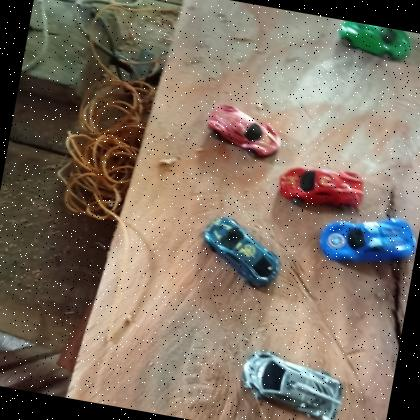Car: (234, 345, 350, 420), (314, 203, 420, 278), (195, 212, 288, 290), (273, 158, 370, 218), (202, 99, 288, 161)
